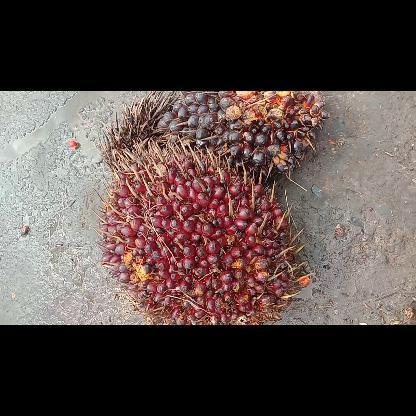Janjang kosong: (96, 90, 180, 168)
TBS masak: (92, 138, 312, 324)
TBS mentah: (158, 90, 328, 182)
